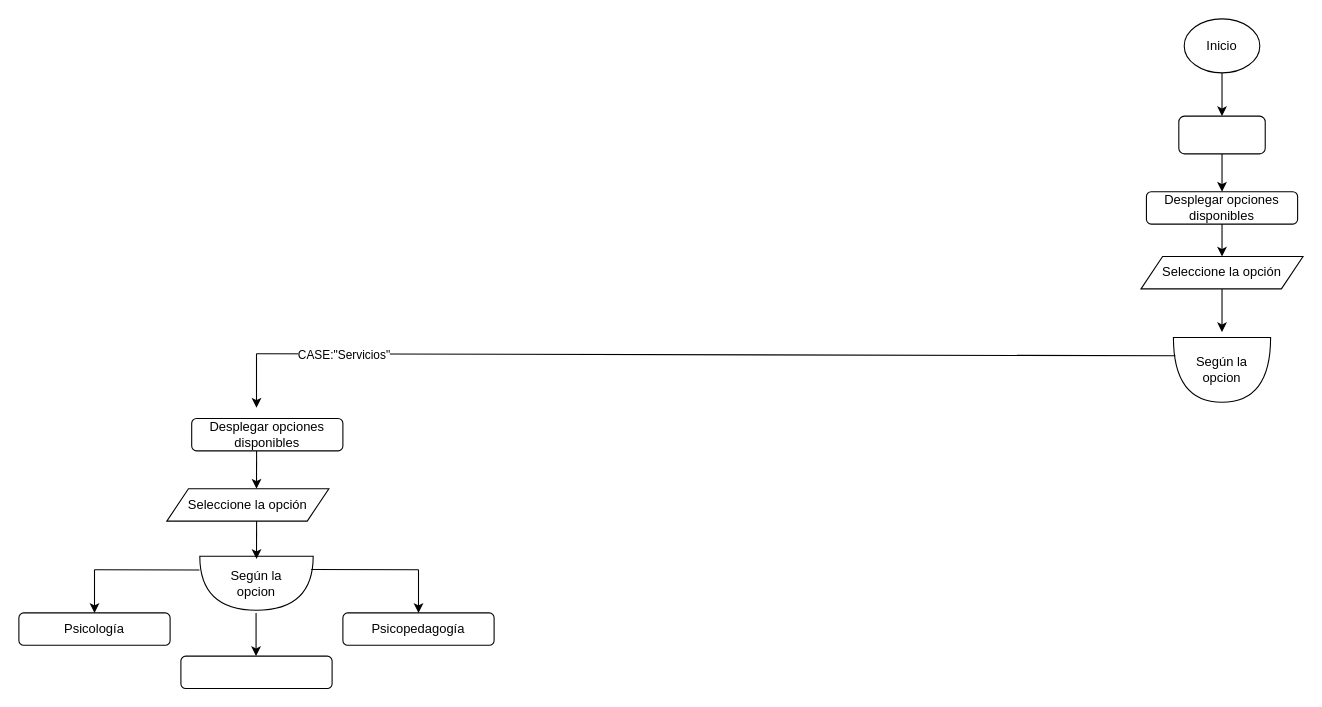
The diagram is 1322 pixels wide and 707 high, and some of its shapes have lost their labels. Here are the shapes that lost their labels. From the top down, the box of each, then its label:
(1178, 115, 1265, 154): Presentar inicio
(180, 655, 332, 688): Orientación Estudiantil
